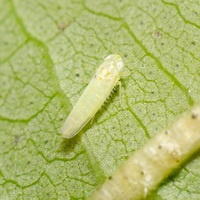insect: (61, 54, 123, 137)
